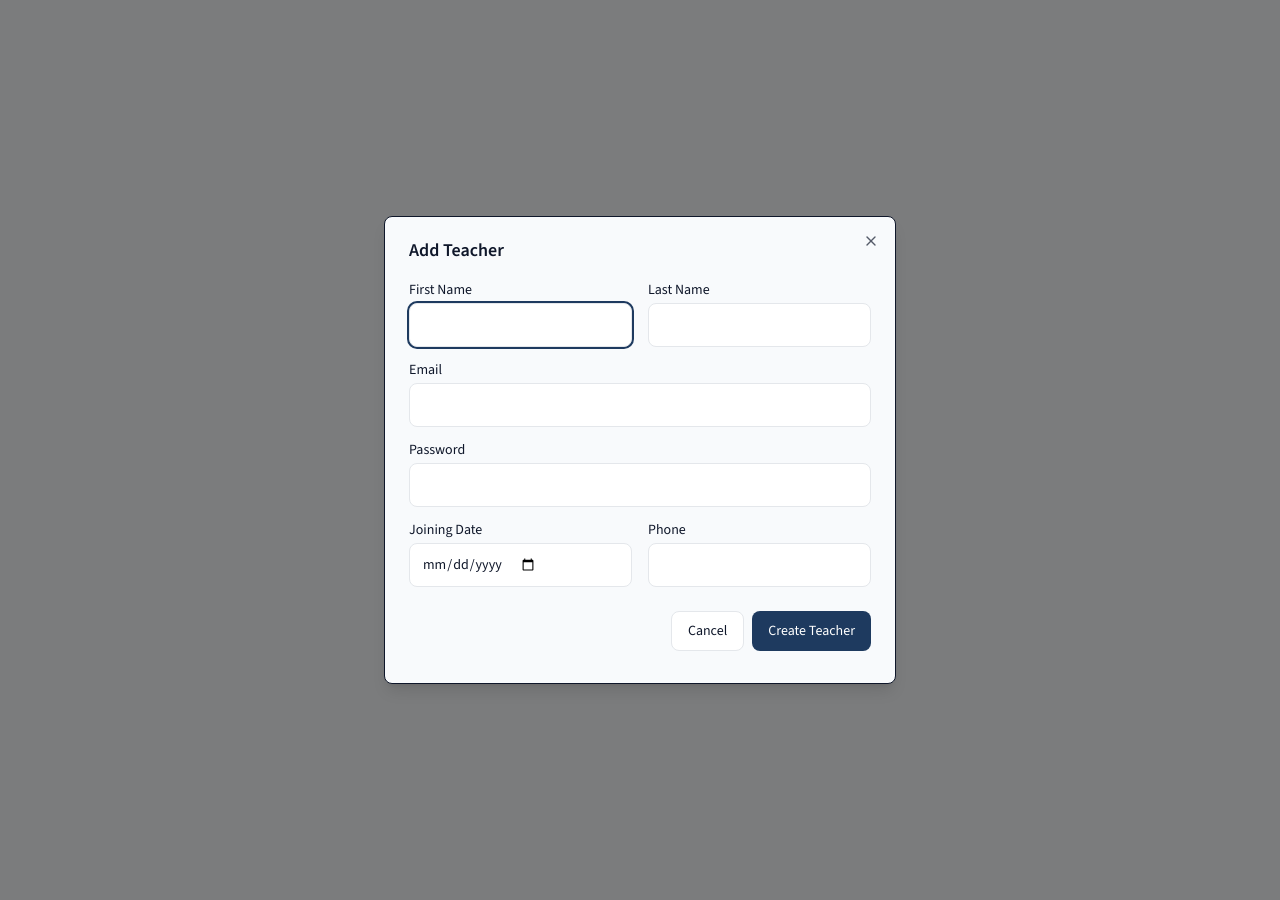
Test: CreateTeacherModal › 5: disables submit while mutation is pending
This screenshot has width=1280, height=900.
Type "Nguyen" into the field labelled "First Name" at (520, 325), box [409,303,632,347]
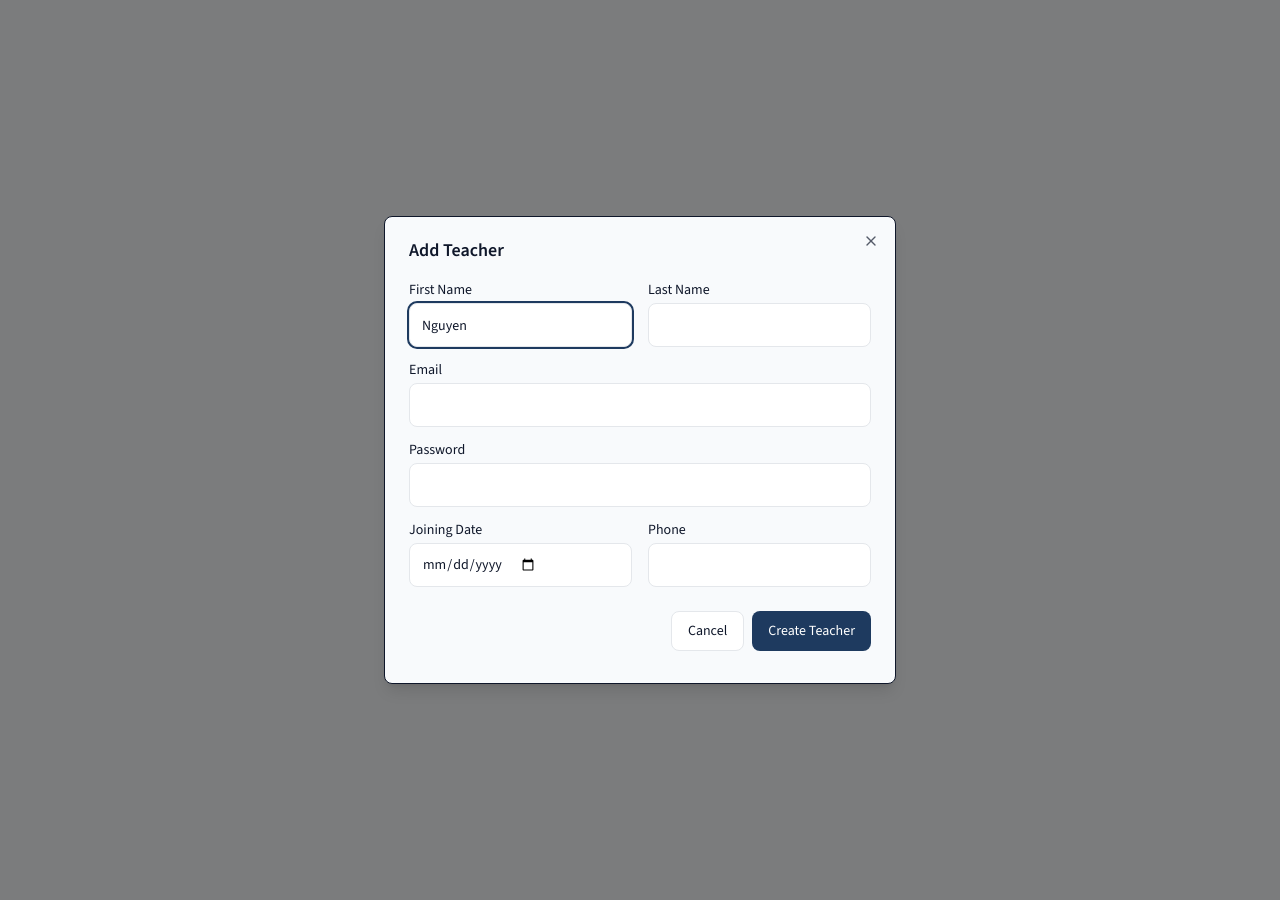
Type "Van A" into the field labelled "Last Name" at (760, 325), box [648,303,871,347]
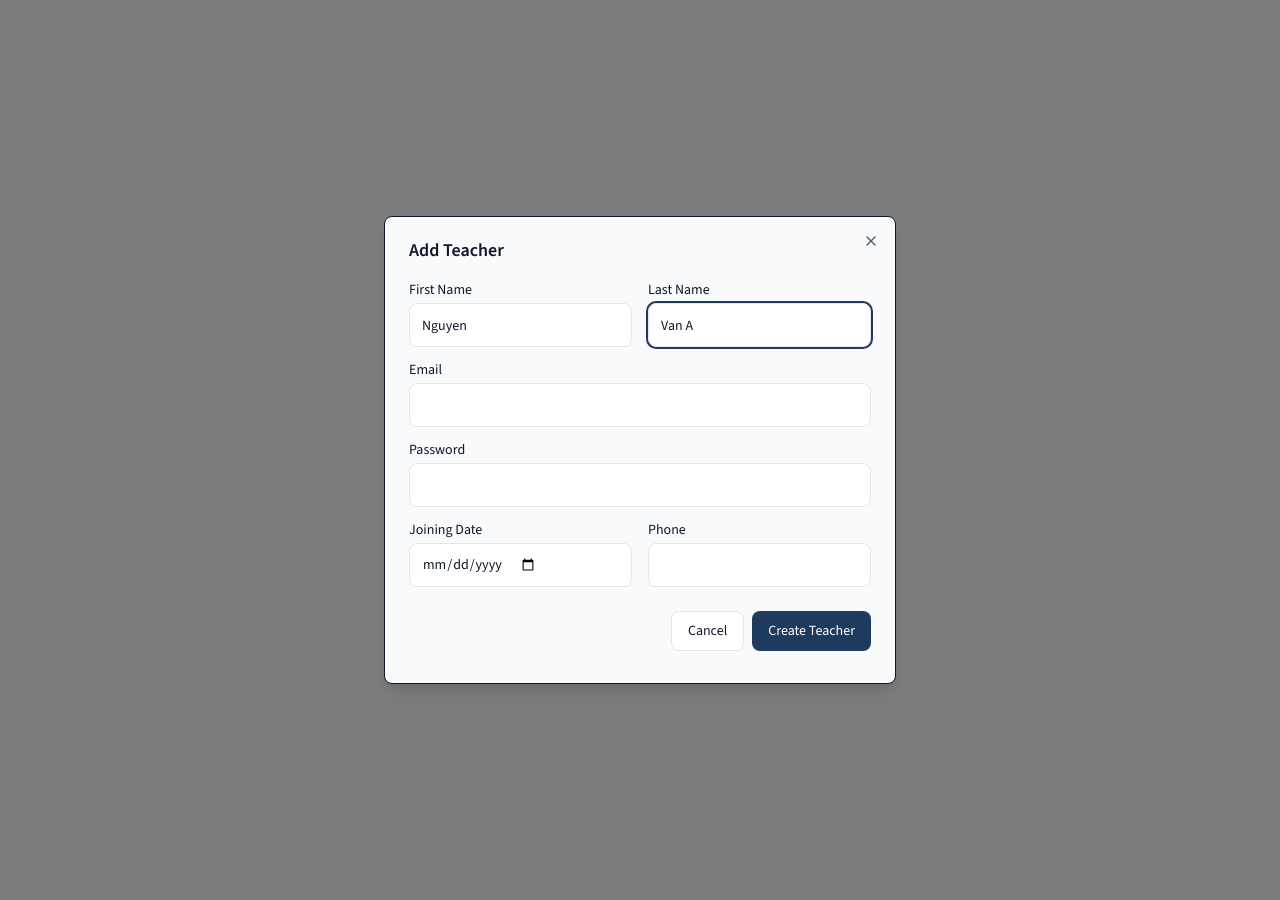
Type "nguyen@school.edu" into the field labelled "Email" at (640, 405), box [409,383,871,427]
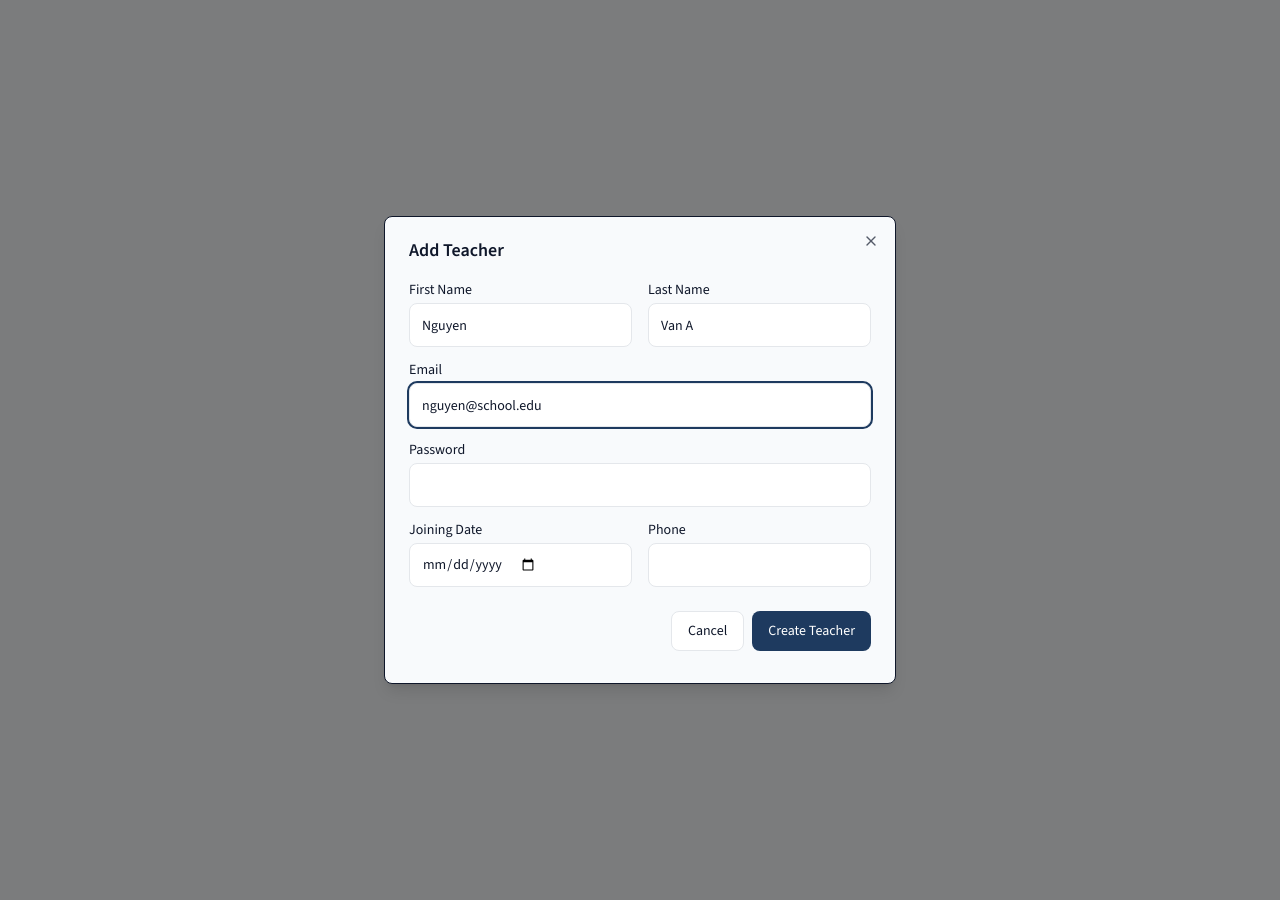
Type "password123" into the password field labelled "Password" at (640, 485), box [409,463,871,507]
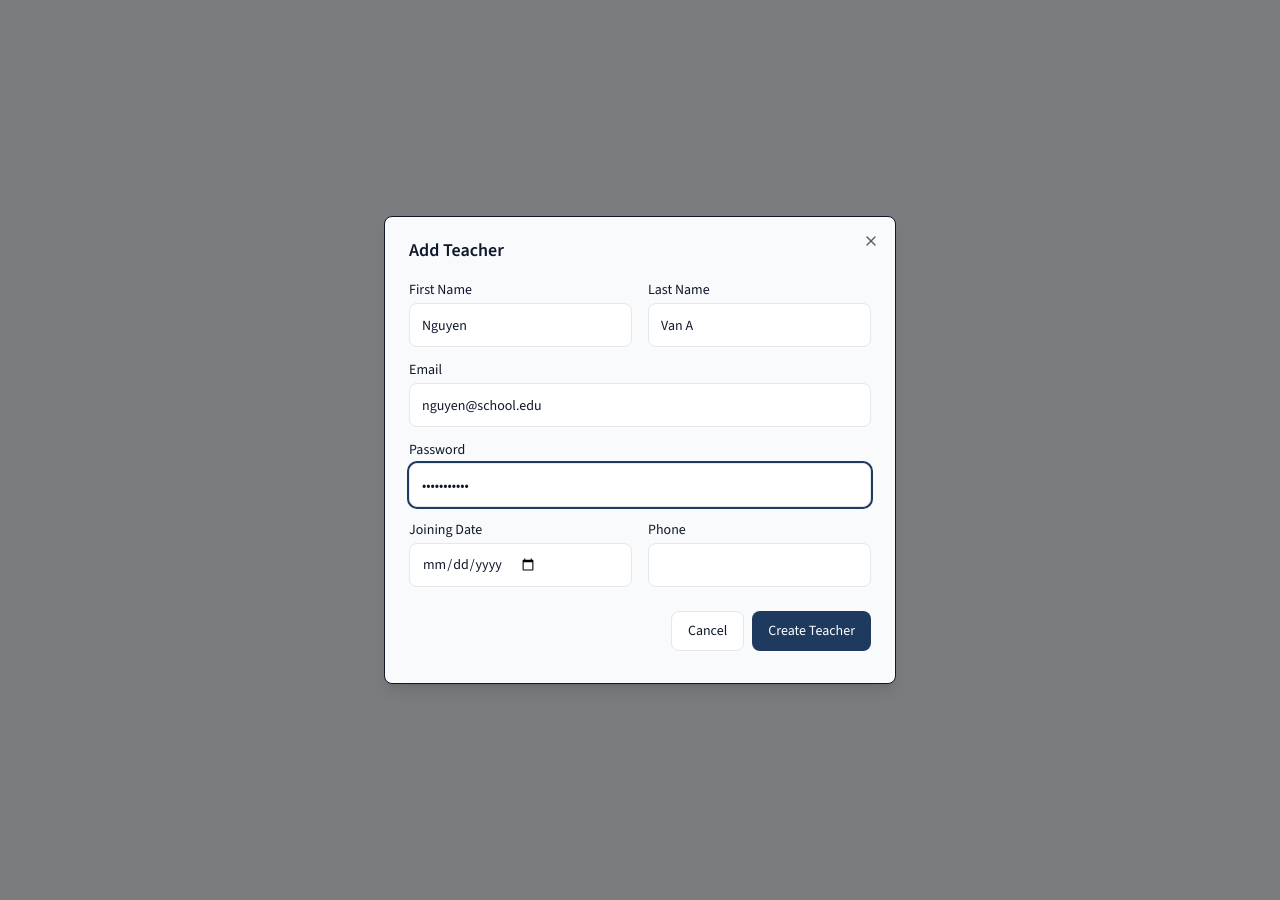
Type "2025-09-01" into the date field labelled "Joining Date" at (520, 565), box [409,543,632,587]
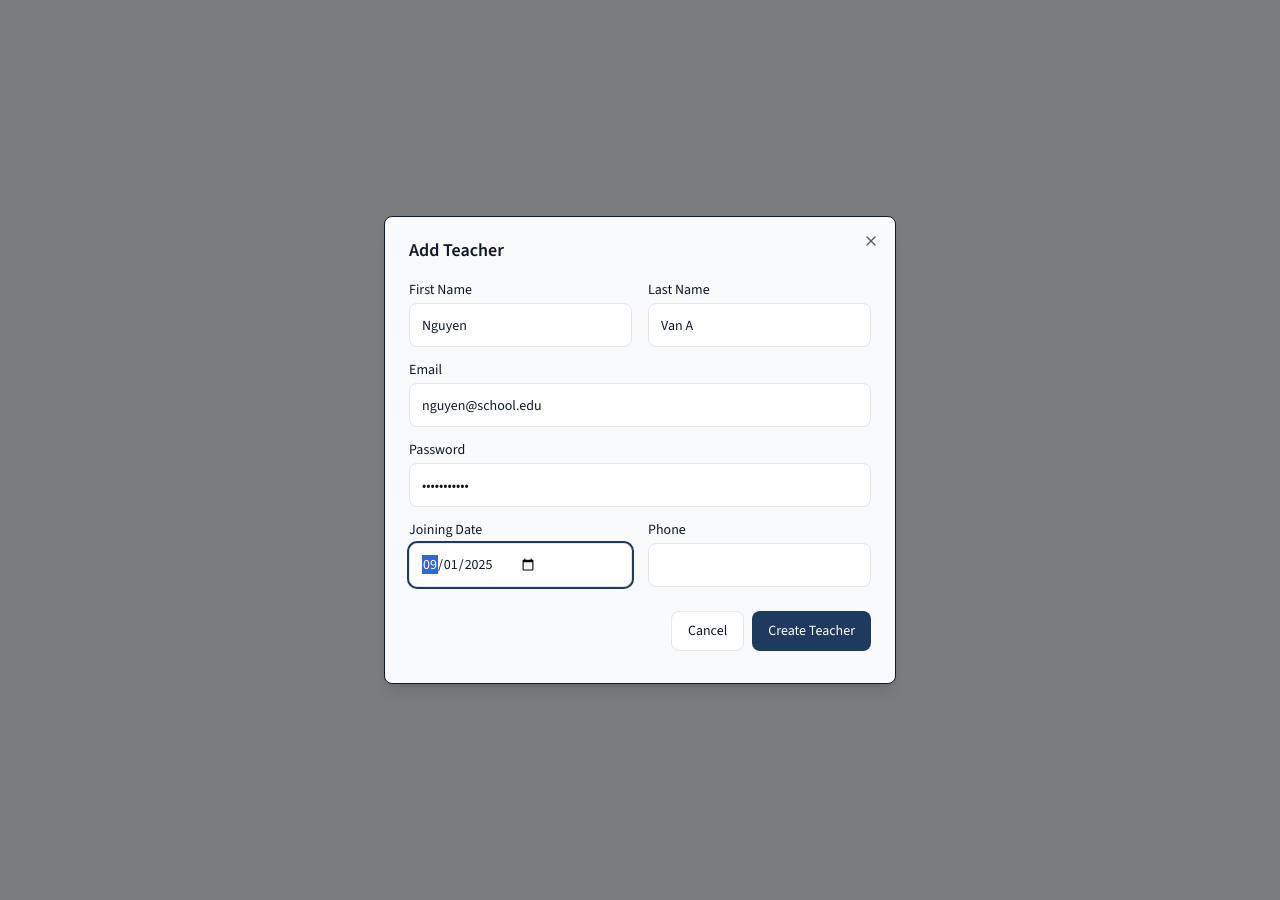
Click the button "Create Teacher" at (812, 631), box [752,611,871,651]
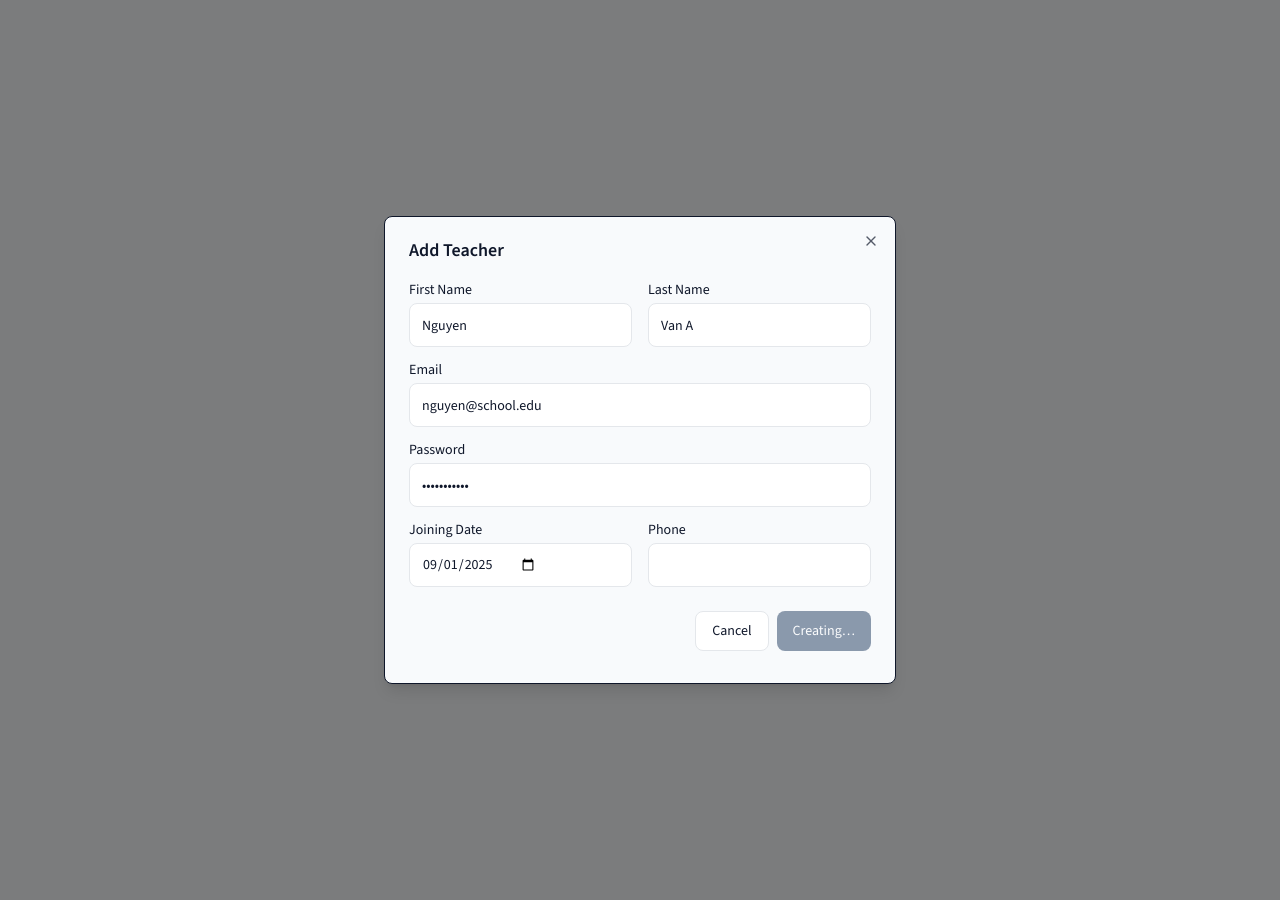
expect the button "Creating…" is disabled: met, box [776,611,871,651]
